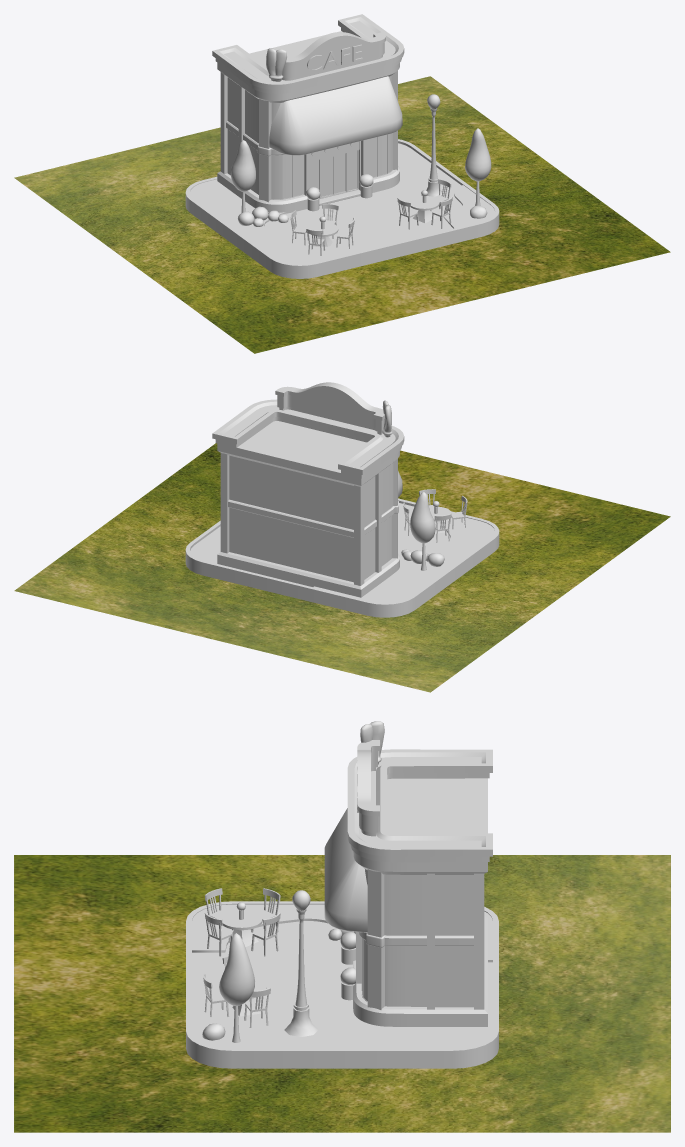
3 renders of one model, top to bottom at view 1: azimuth 30°, elevation 25°; view 2: azimuth 150°, elevation 25°; view 3: azimuth 270°, elevation 25°, orthographic. The views are drawn at different scales.
Parts seen in each view (by area): view 1: Plane, kaedim_mesh_25, kaedim_mesh_30, kaedim_mesh_24, kaedim_mesh_26, kaedim_mesh_32, kaedim_mesh_27, kaedim_mesh_39, kaedim_mesh_41, kaedim_mesh_42, kaedim_mesh_33, kaedim_mesh_1 (+7 smaller); view 2: Plane, kaedim_mesh_32, kaedim_mesh_25, kaedim_mesh_26, kaedim_mesh_24, kaedim_mesh_27, kaedim_mesh_36, kaedim_mesh_42, kaedim_mesh_35, kaedim_mesh_19, kaedim_mesh_1, kaedim_mesh_34 (+1 smaller); view 3: Plane, kaedim_mesh_25, kaedim_mesh_32, kaedim_mesh_26, kaedim_mesh_42, kaedim_mesh_24, kaedim_mesh_30, kaedim_mesh_33, kaedim_mesh_1, kaedim_mesh_12, kaedim_mesh_27, kaedim_mesh_14 (+5 smaller).
Boxes of the visible parts, box(x1,y1,x2,y2) form: Plane: box(14, 76, 670, 353); kaedim_mesh_25: box(185, 139, 499, 278); kaedim_mesh_30: box(269, 76, 402, 155); kaedim_mesh_24: box(190, 179, 494, 263); kaedim_mesh_26: box(212, 14, 404, 93); kaedim_mesh_32: box(217, 31, 399, 213); kaedim_mesh_27: box(281, 32, 385, 80); kaedim_mesh_39: box(271, 133, 392, 199); kaedim_mesh_41: box(311, 141, 359, 198); kaedim_mesh_42: box(227, 77, 258, 175); kaedim_mesh_33: box(259, 70, 397, 202); kaedim_mesh_1: box(290, 204, 354, 255); Plane: box(14, 443, 670, 692); kaedim_mesh_32: box(217, 421, 399, 597); kaedim_mesh_25: box(185, 498, 499, 617); kaedim_mesh_26: box(212, 399, 404, 478); kaedim_mesh_24: box(313, 517, 494, 602); kaedim_mesh_27: box(275, 382, 384, 434); kaedim_mesh_36: box(220, 453, 364, 585); kaedim_mesh_42: box(364, 462, 393, 579); kaedim_mesh_35: box(228, 499, 394, 537); kaedim_mesh_19: box(410, 492, 435, 543); kaedim_mesh_1: box(403, 489, 467, 542); kaedim_mesh_34: box(375, 471, 381, 572); Plane: box(14, 855, 670, 1132); kaedim_mesh_25: box(186, 901, 498, 1068); kaedim_mesh_32: box(353, 778, 487, 1026); kaedim_mesh_26: box(347, 749, 492, 862); kaedim_mesh_42: box(384, 874, 473, 1007); kaedim_mesh_24: box(192, 904, 492, 1048); kaedim_mesh_30: box(324, 808, 367, 932); kaedim_mesh_33: box(367, 869, 384, 1009); kaedim_mesh_1: box(204, 888, 280, 956); kaedim_mesh_12: box(219, 933, 254, 1005); kaedim_mesh_27: box(357, 740, 379, 836); kaedim_mesh_14: box(284, 890, 318, 1036).
Size of the model in its own units: 500 by 200 by 500.
1 material, 1 textured.
